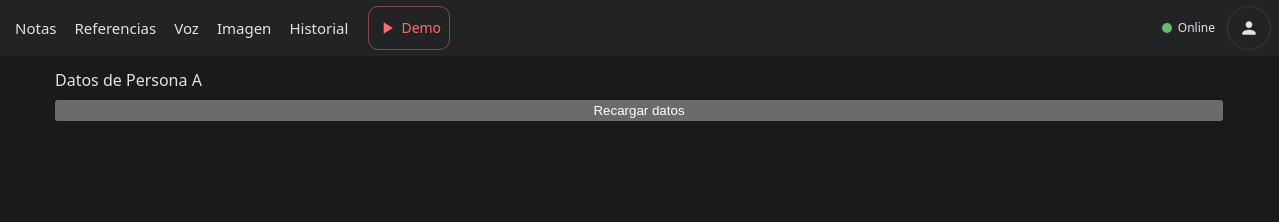
Test case: Cierre de sesión › con red caída conserva la sesión y el mensaje, y el reintento la cierra
Later steps or results of the test are not shown.
Expected: the text "Datos de Persona A" is shown, [55,69,202,91]
Click the button named "Cuenta de " at (1249, 28), box [1227,6,1271,50]
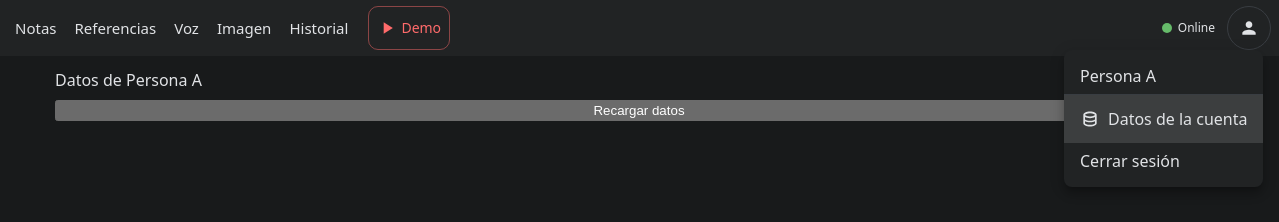
Click the menu item "Cerrar sesión" at (1130, 161), box [1080,150,1180,172]
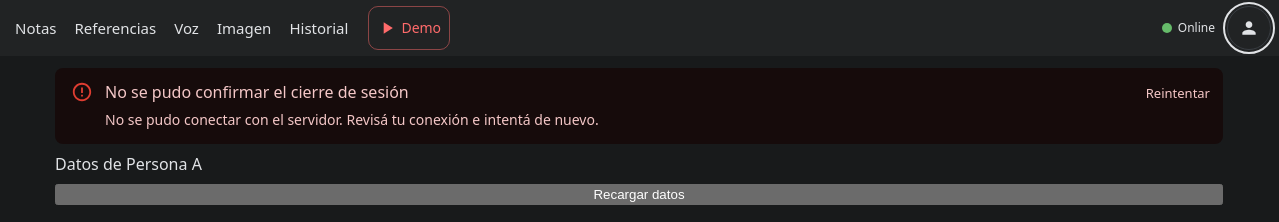
Expected: the button named "Cuenta de Persona A" is shown, [1227,6,1271,50]
Now the text "No se pudo confirmar el cierre de sesión" is shown, box [105,81,409,103]
Now the message that starts with "No se pudo confirmar el cierre de sesión" shows "No se pudo conectar con el servidor", box [105,110,599,129]
